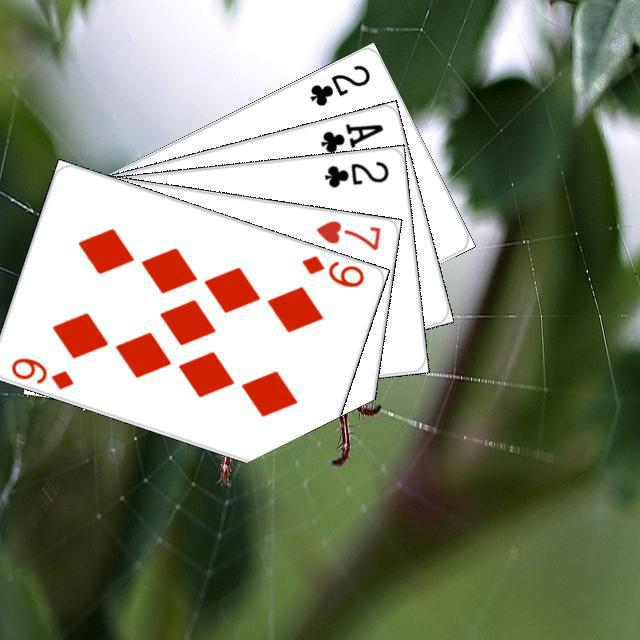2c: (305, 59, 372, 108), (319, 156, 390, 189)
7h: (311, 215, 383, 252)
9d: (296, 250, 366, 290), (6, 352, 76, 391)
Ac: (315, 118, 385, 155)
